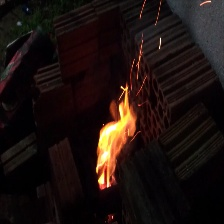fire: (84, 83, 144, 192)
